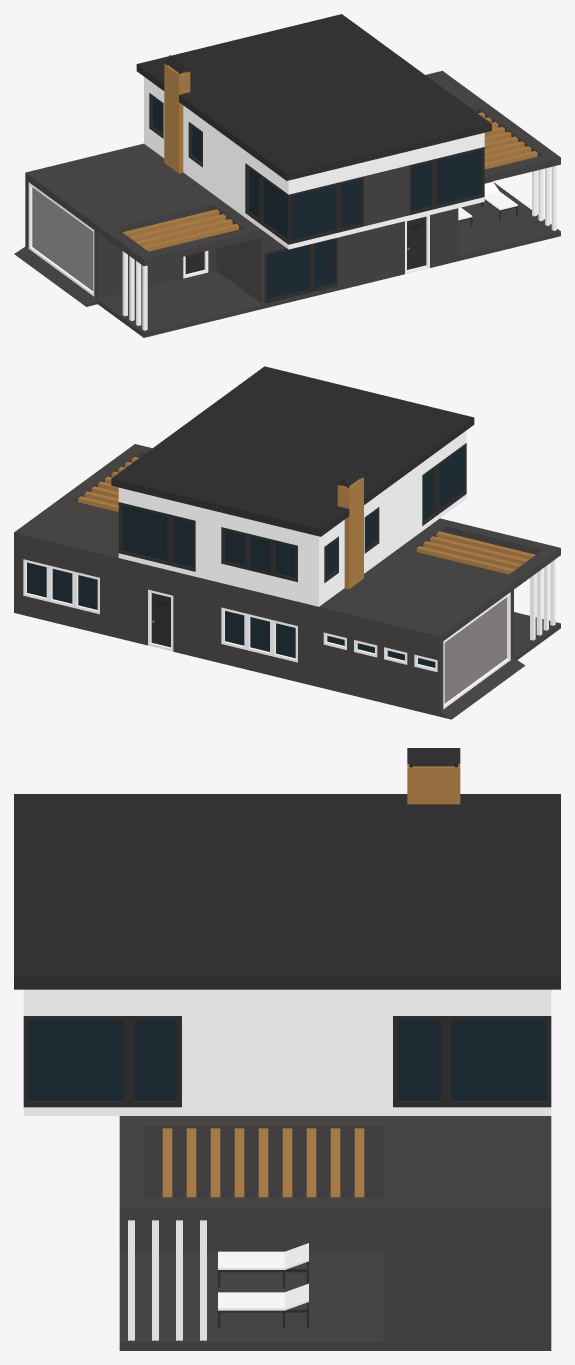
The model's file is building-house-modern-big.glb.
The picture shows the model from 3 angles, top to bottom: view 1: azimuth 30°, elevation 25°; view 2: azimuth 150°, elevation 25°; view 3: azimuth 270°, elevation 25°; orthographic projection. The views are drawn at different scales.
Visible parts, largest first — view 1: building-house-modern-big; view 2: building-house-modern-big; view 3: building-house-modern-big.
Part boxes in pixels (bbox=[...]): building-house-modern-big: bbox=[14, 14, 560, 337]; building-house-modern-big: bbox=[14, 366, 560, 719]; building-house-modern-big: bbox=[14, 748, 560, 1350].
Bounding box in the file's own units: 18.8 × 7.77 × 11.4.
Materials: 1 (1 with a texture image).
